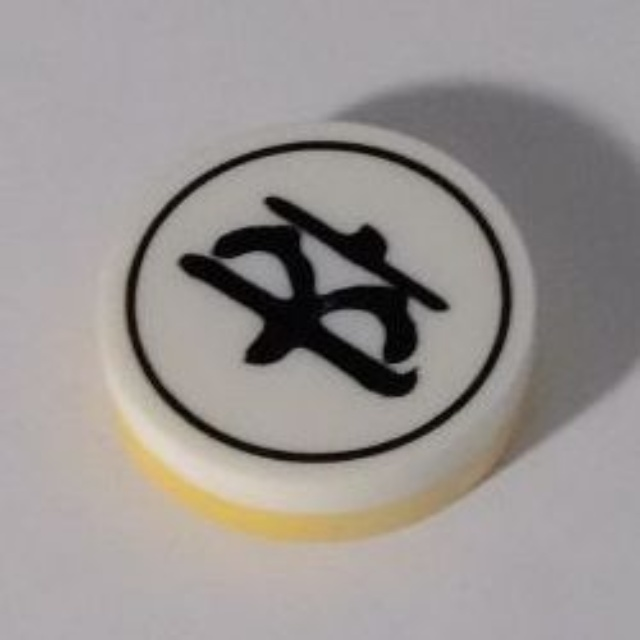black_chot: (86, 118, 557, 544)
